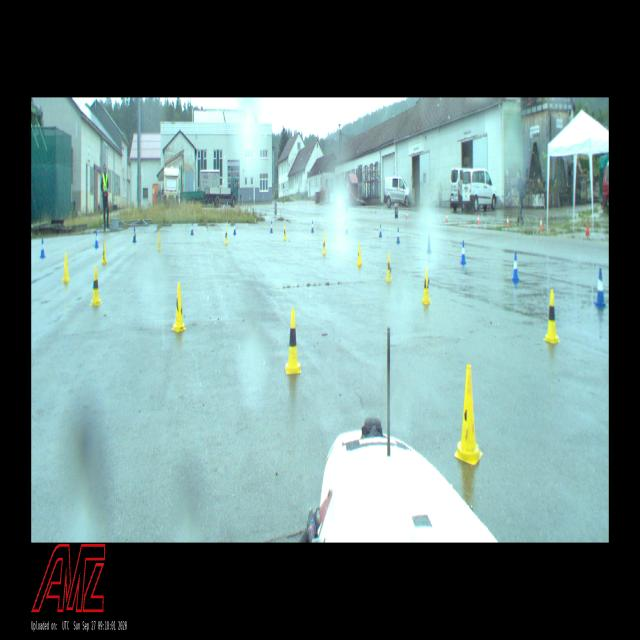blue_cone: (594, 268, 606, 307), (512, 253, 520, 281), (460, 240, 467, 264), (40, 238, 46, 258), (426, 235, 432, 252), (94, 231, 99, 248), (132, 226, 137, 243), (396, 227, 401, 243), (190, 222, 194, 236), (378, 224, 382, 238), (233, 222, 237, 235), (310, 220, 314, 232), (270, 220, 273, 233), (345, 221, 348, 234)
orange_cone: (586, 218, 590, 236), (539, 217, 543, 230), (506, 215, 509, 227), (477, 213, 480, 224), (446, 213, 448, 222), (406, 211, 408, 220)
yellow_cone: (454, 364, 483, 465), (285, 309, 301, 375), (543, 289, 561, 344), (171, 283, 187, 333), (89, 267, 102, 306), (421, 266, 432, 304), (61, 252, 70, 282), (385, 252, 393, 282), (101, 239, 107, 265), (357, 242, 363, 266), (156, 231, 162, 251), (322, 236, 327, 255), (224, 227, 229, 245), (283, 225, 287, 240)
